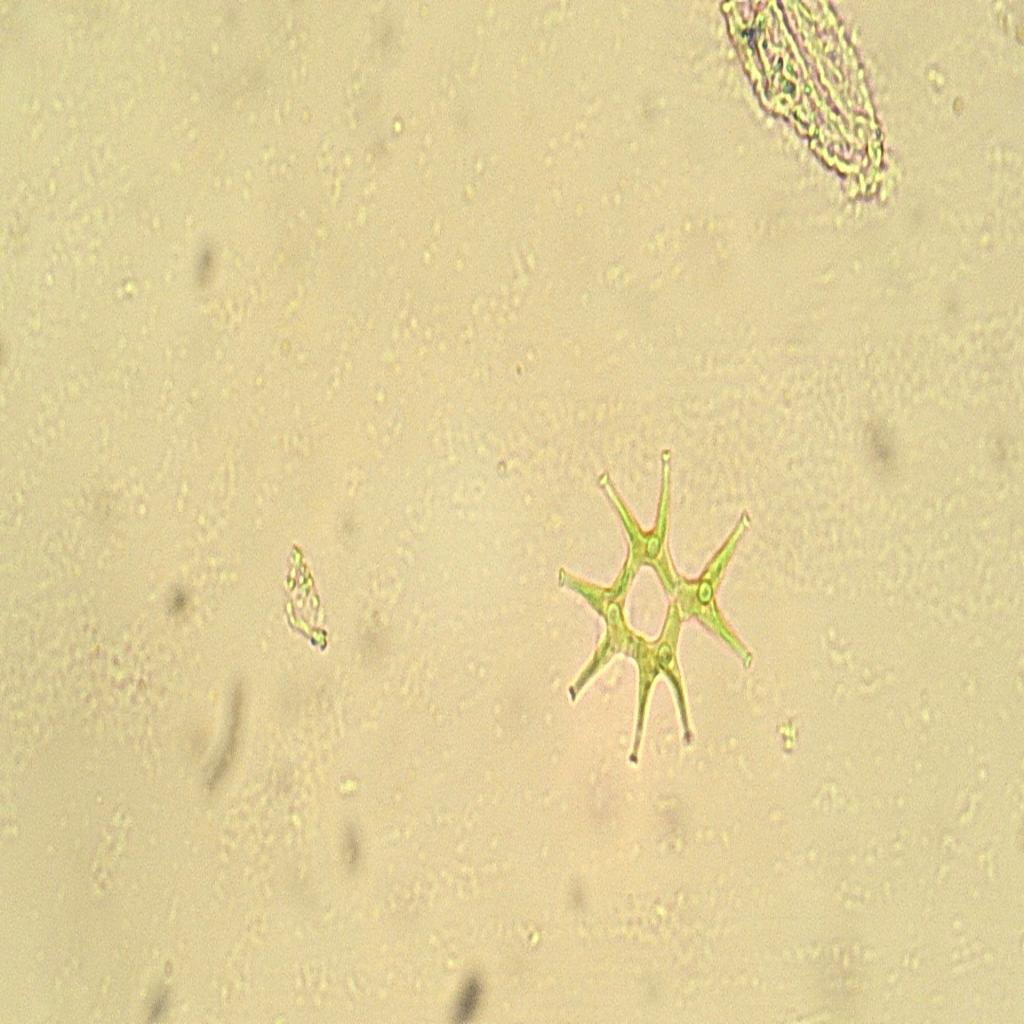Pediastrum_CT: (541, 437, 766, 794)
